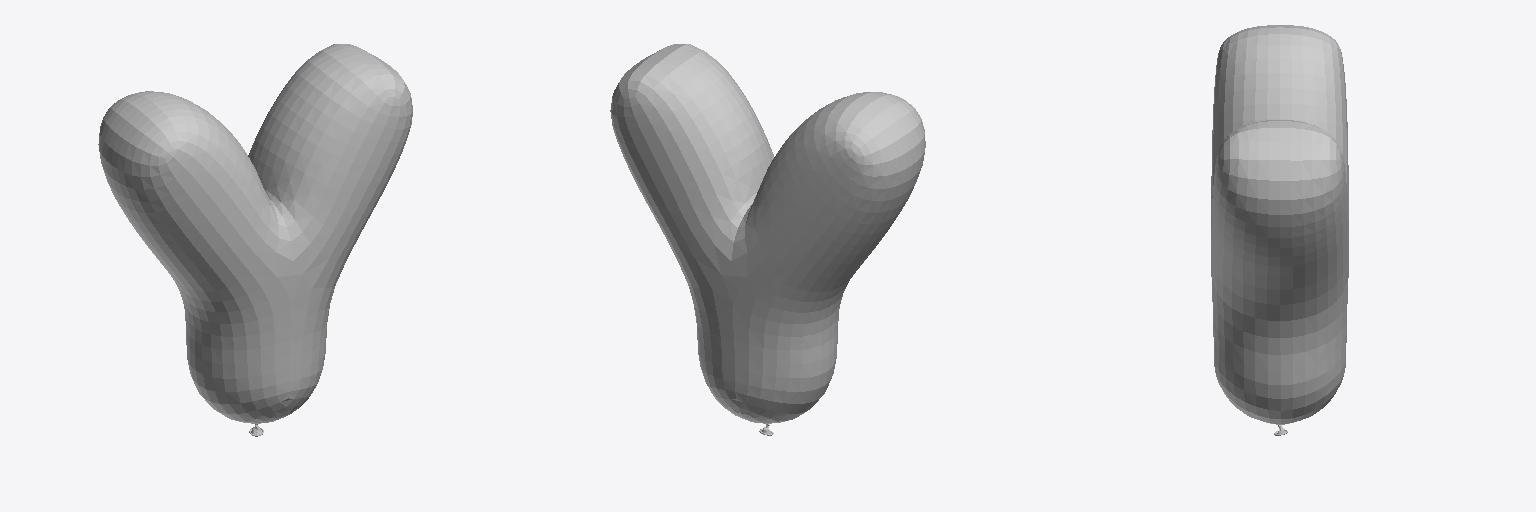
3 views of the same model, side by side, from view 1: azimuth 30°, elevation 25°; view 2: azimuth 150°, elevation 25°; view 3: azimuth 270°, elevation 25° (orthographic).
Parts seen in each view (by area): view 1: Balloon_Alphabet_Subdivision_Y; view 2: Balloon_Alphabet_Subdivision_Y; view 3: Balloon_Alphabet_Subdivision_Y.
Boxes of the visible parts, x1,y1,x2,y2 form: Balloon_Alphabet_Subdivision_Y: [98, 44, 412, 436]; Balloon_Alphabet_Subdivision_Y: [610, 44, 925, 435]; Balloon_Alphabet_Subdivision_Y: [1211, 25, 1348, 435].
Size of the model in its own units: 42.32 by 50 by 17.55.